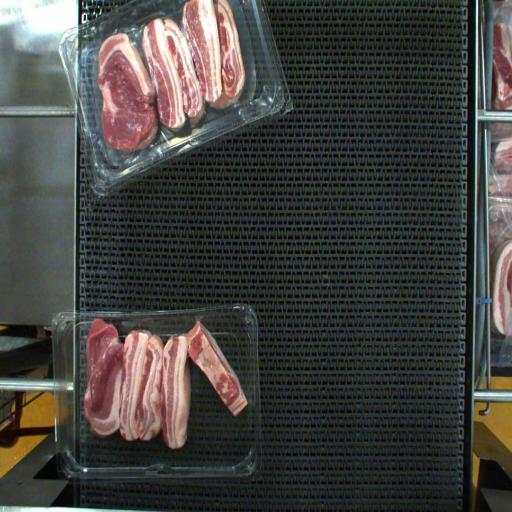loose-meat: (191, 320, 251, 426)
